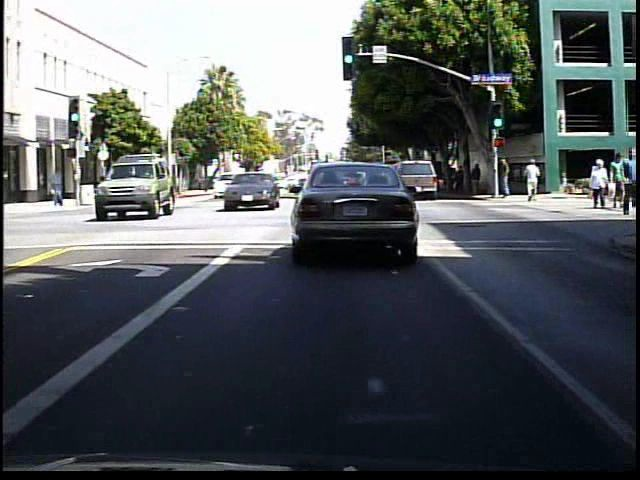person: (585, 159, 612, 212), (617, 148, 636, 216), (494, 155, 514, 205), (522, 158, 543, 205), (51, 166, 71, 209), (471, 163, 486, 195), (457, 165, 470, 197)
